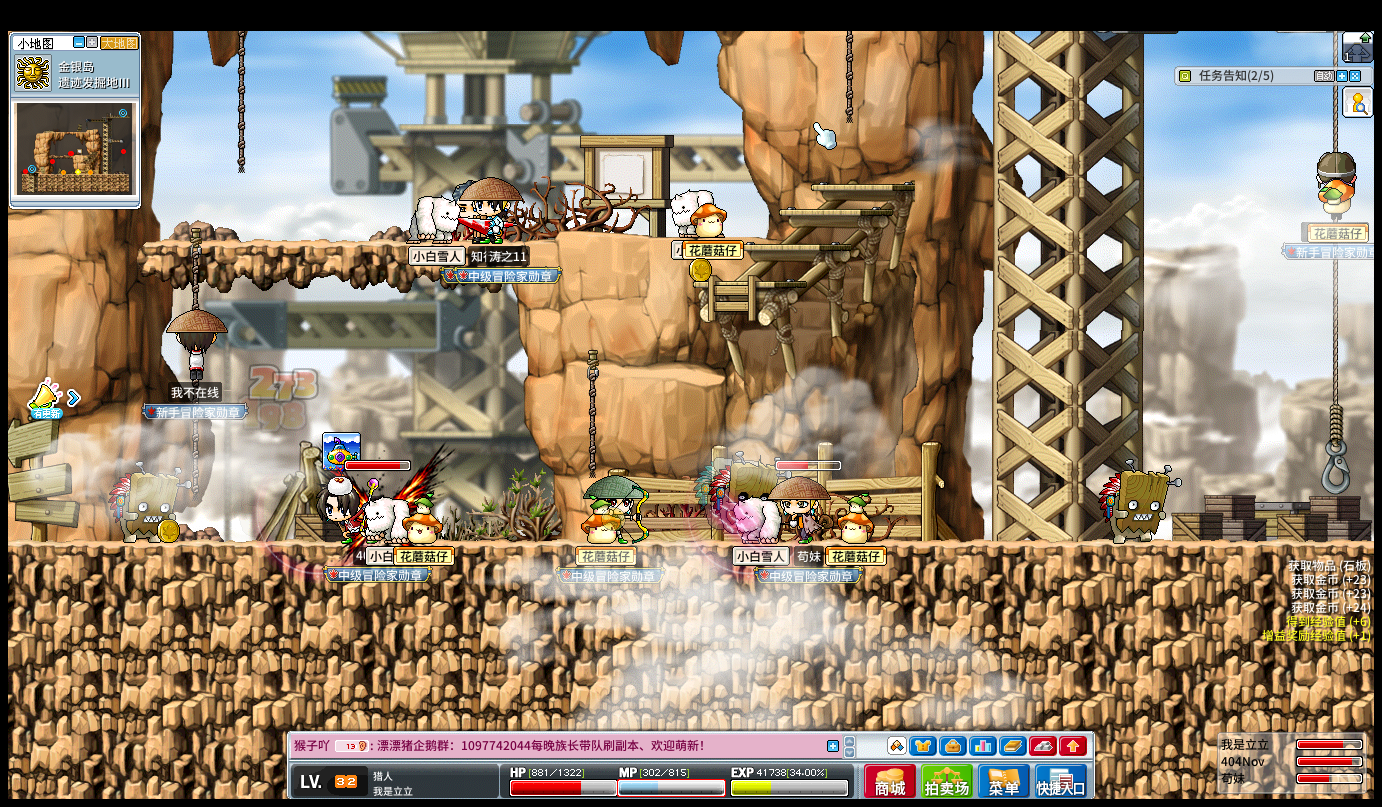floor: (141, 238, 515, 248), (619, 364, 725, 384), (685, 279, 804, 288), (775, 207, 888, 214), (740, 243, 850, 250), (810, 184, 913, 191)
monster: (107, 462, 191, 543), (1097, 464, 1174, 542), (703, 456, 781, 498)
rope: (584, 350, 598, 477), (233, 30, 245, 172), (1330, 257, 1340, 407), (189, 226, 200, 309), (843, 28, 852, 122), (192, 420, 201, 489), (1329, 399, 1342, 443)
